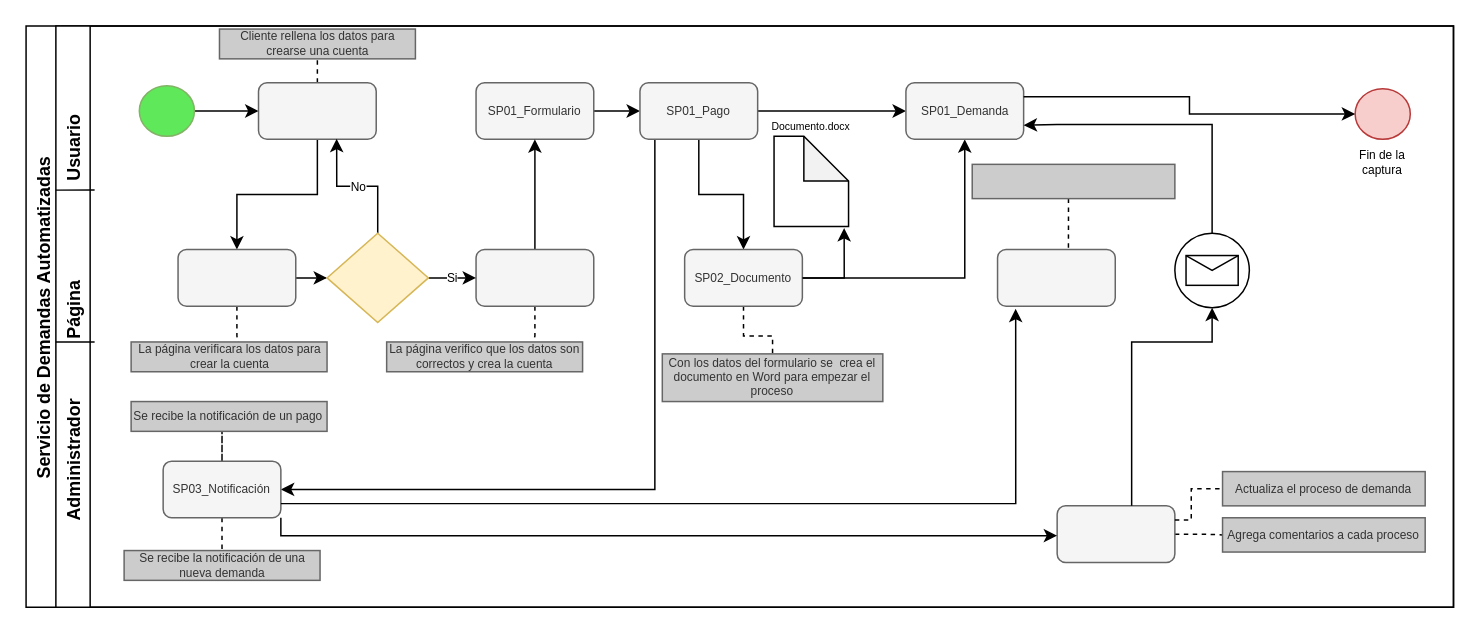
Some shapes in this 1480 by 633 pixel diagram are drawn without their labels. Each missing label, with the centre of its shape:
"Es correcta la información?" goes at pixel 377 277.
"Inicio de captura" goes at pixel 166 110.
"Refleja la cantidad de ingresos recibidos" goes at pixel 1073 181.
"SP01_Cuenta" goes at pixel 316 110.
"SP02_Análisis" goes at pixel 236 277.
"SP02_Creación" goes at pixel 534 277.
"SP02_Dashboard" goes at pixel 1055 277.
"SP03_Controlador" goes at pixel 1115 533.
